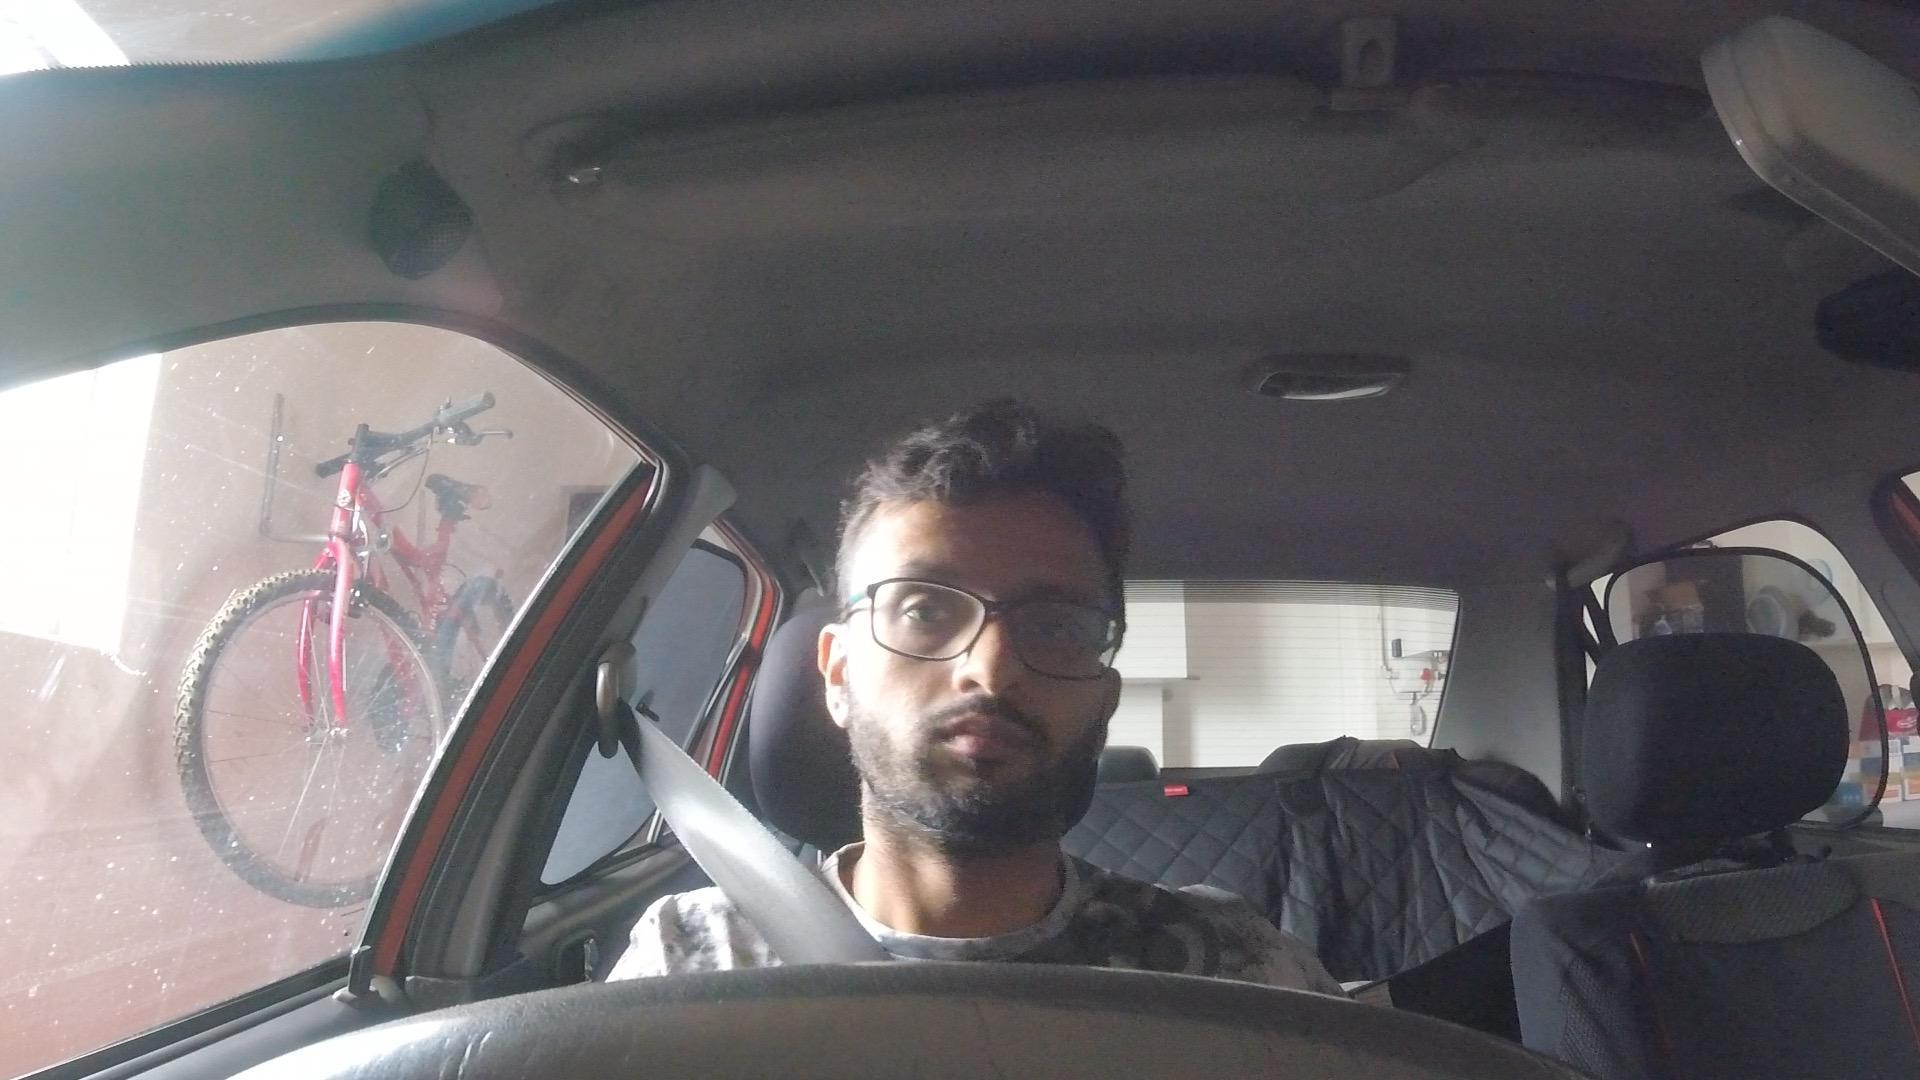SafeDriving: (815, 400, 1135, 866)
